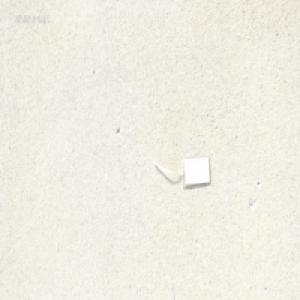LuggageTag: (152, 154, 211, 188)
